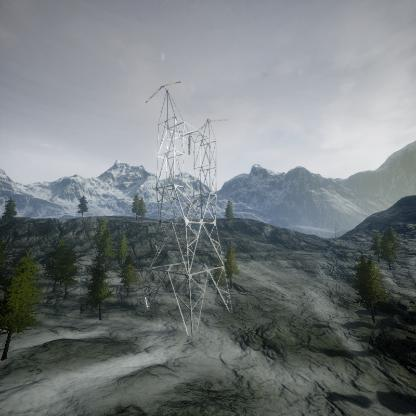tower: (144, 82, 231, 332)
